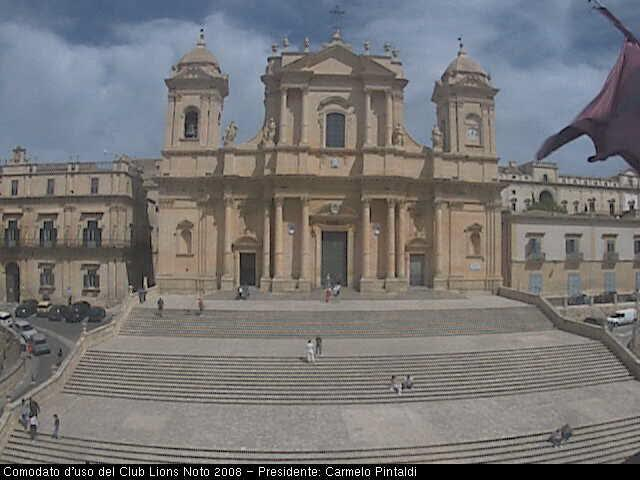person: (28, 397, 40, 428), (19, 399, 30, 429), (51, 414, 63, 441), (390, 376, 402, 396), (550, 429, 561, 449), (30, 414, 37, 443), (156, 297, 165, 319), (305, 340, 314, 362), (561, 423, 572, 441), (403, 374, 413, 392), (197, 298, 205, 316), (315, 336, 322, 355), (142, 287, 148, 303), (324, 288, 330, 304), (326, 273, 331, 290), (336, 281, 341, 297), (138, 289, 143, 304), (239, 286, 243, 300), (333, 286, 337, 298), (244, 288, 248, 299), (84, 458, 90, 464)
